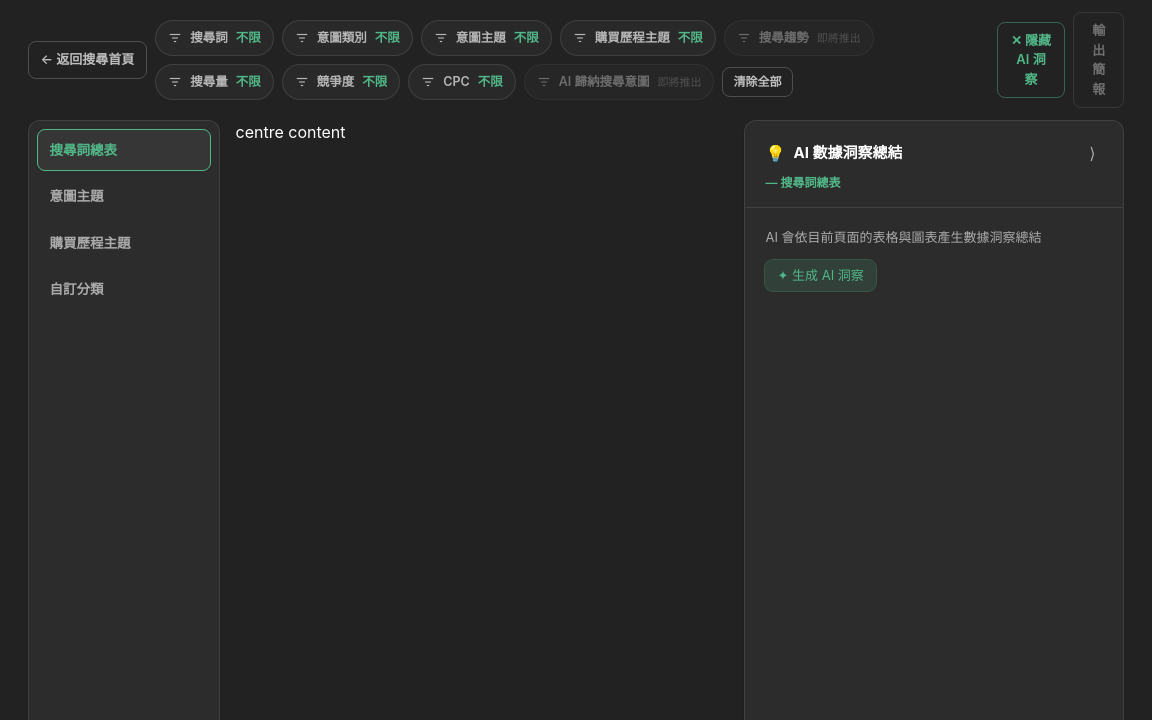
Test: TC-59 / M7-R6 · action row + AI 洞察 panel toggle › the 隱藏/顯示 AI 洞察 toggle collapses and re-expands the panel (M7-R6)
The image size is (1152, 720).
Click the button "✕ 隱藏 AI 洞察" at (1031, 60), box [997, 22, 1065, 98]
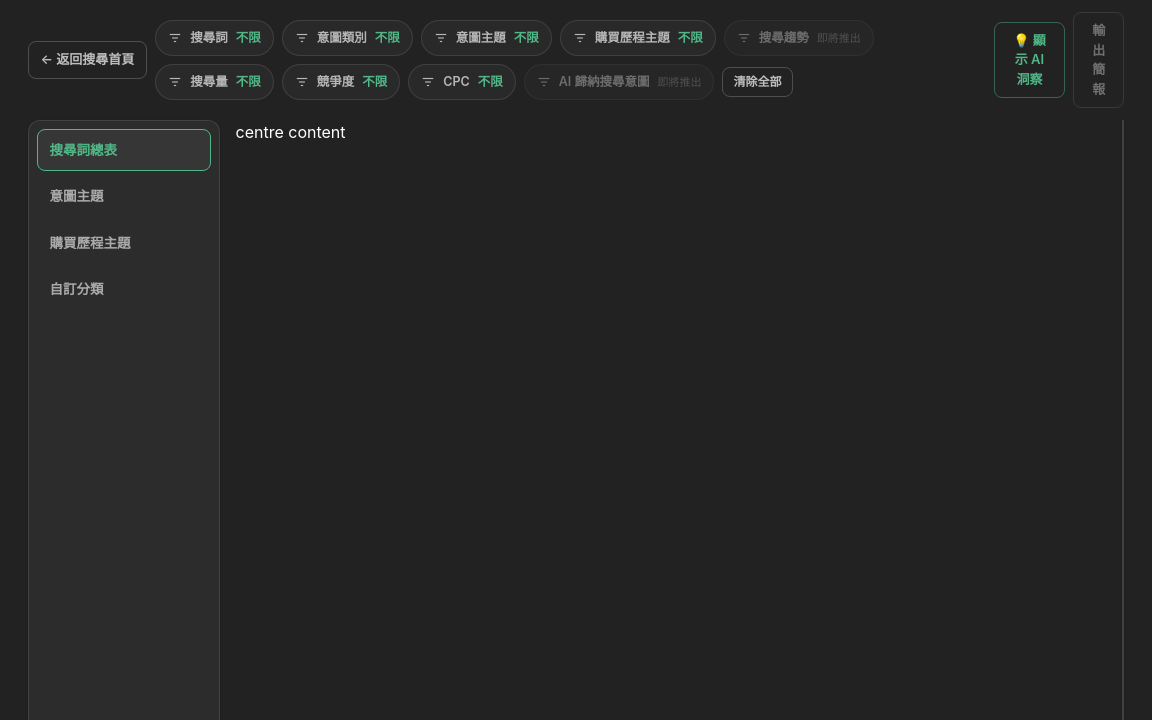
Now the button "💡 顯示 AI 洞察" is collapsed, box [994, 22, 1065, 98]
